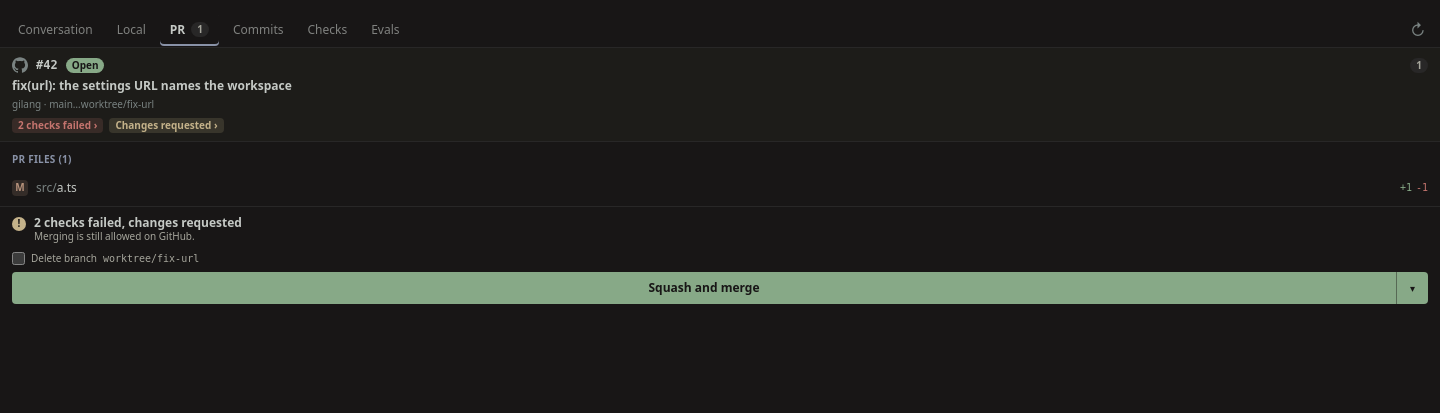
Test: SidebarDiffPanel — the request header and the status chips › opens the conversation tab when the review chip is pressed
Click the button with test id "sidebar-pr-chip-review". click: (167, 125)
box: x1=109 y1=118 x2=224 y2=132
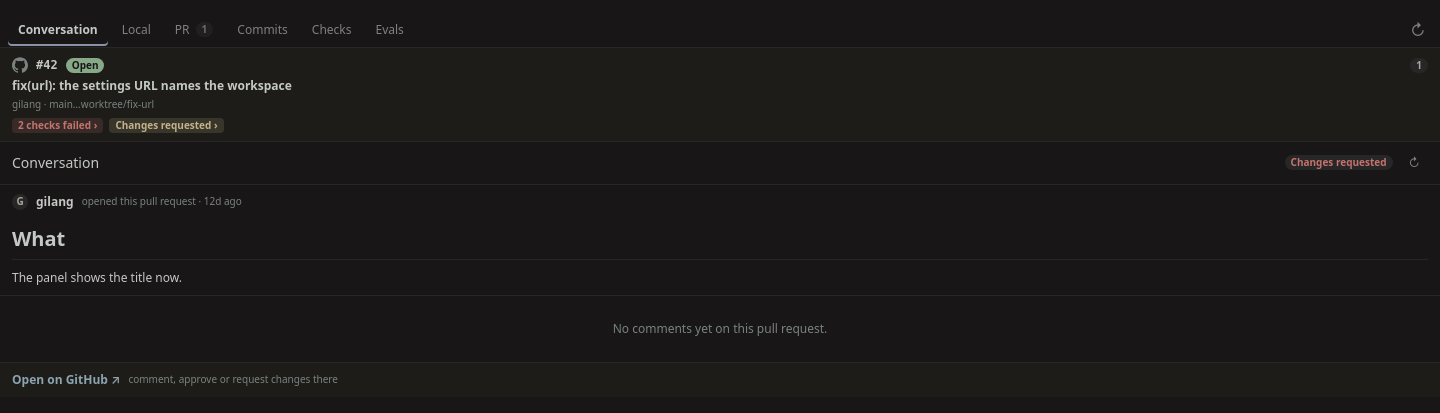
expect the element with test id "pr-conversation-panel" is shown: met
